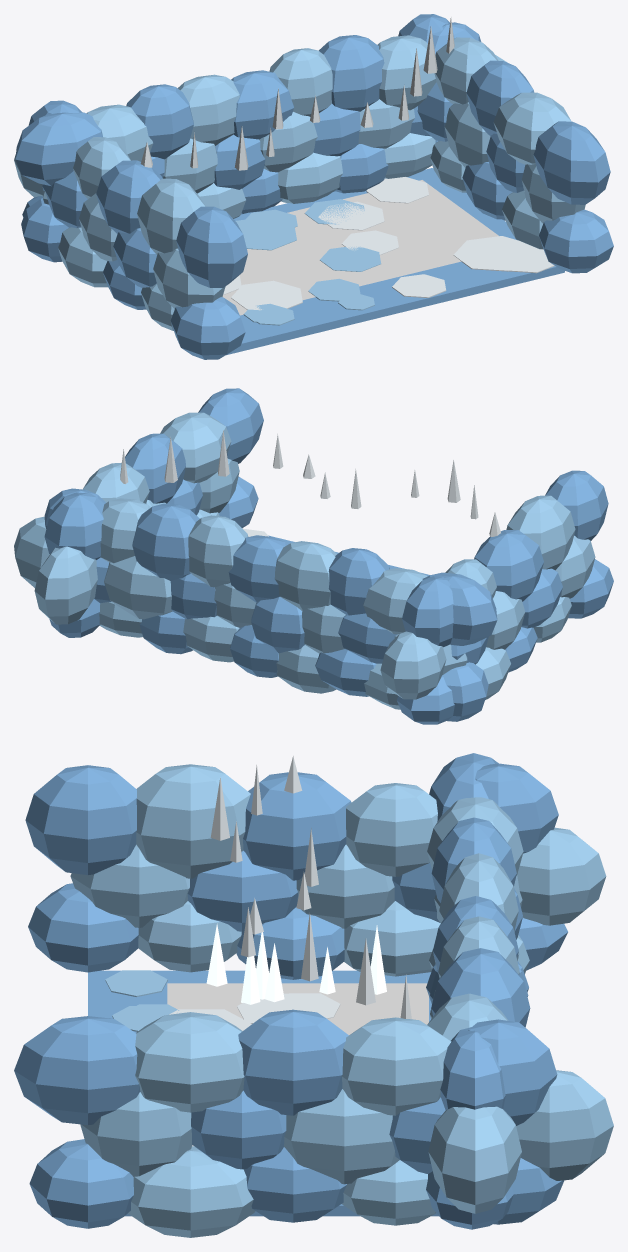
The model's file is ice_cave.glb.
3 views of the same model, one above another, from view 1: azimuth 30°, elevation 25°; view 2: azimuth 150°, elevation 25°; view 3: azimuth 270°, elevation 25° (orthographic). The views are drawn at different scales.
Parts seen in each view (by area): view 1: nav_floor, floor_base, walls2_1_0, walls2_-1_0, wallb2_0, wallb2_6, walls0_1_0, walls0_-1_0, walls2_1_1, wallb2_2, walls2_-1_1, wallb2_3 (+49 smaller); view 2: wallb2_6, walls1_1_4, wallb2_3, walls1_-1_4, walls2_-1_2, wallb2_5, walls2_-1_1, walls2_1_4, wallb1_6, walls2_1_1, walls2_-1_4, wallb2_2 (+37 smaller); view 3: walls2_1_0, walls2_-1_0, walls2_-1_1, walls2_1_1, walls2_1_2, walls2_1_3, walls2_-1_2, walls0_1_1, wallb1_8, walls1_1_2, walls1_1_4, walls2_-1_3 (+41 smaller).
Part boxes in pixels (x1,y1,x2,y2): nav_floor: (222,180,498,315); floor_base: (226,168,564,355); walls2_1_0: (533,121,610,204); walls2_-1_0: (176,206,247,287); wallb2_0: (15,112,102,186); wallb2_6: (318,35,384,111); walls0_1_0: (539,209,613,273); walls0_-1_0: (170,297,245,359); walls2_1_1: (493,92,571,164); wallb2_2: (126,84,193,159); walls2_-1_1: (137,178,205,254); wallb2_3: (177,74,239,145); wallb2_6: (132,503,199,580); walls1_1_4: (34,546,97,624); wallb2_3: (274,541,336,610); walls1_-1_4: (380,631,446,699); walls2_-1_2: (474,530,543,601); wallb2_5: (188,515,248,587); walls2_-1_1: (506,495,575,570); walls2_1_4: (44,492,104,559); wallb1_6: (104,556,172,619); walls2_1_1: (160,412,231,483); walls2_-1_4: (402,576,453,647); wallb2_2: (328,548,389,615); walls2_1_0: (14,1016,140,1124); walls2_-1_0: (25,765,136,874); walls2_-1_1: (136,764,250,878); walls2_1_1: (135,1012,244,1112); walls2_1_2: (238,1009,348,1115); walls2_1_3: (342,1017,451,1115); walls2_-1_2: (243,772,351,880); walls0_1_1: (128,1146,255,1237); wallb1_8: (428,1106,521,1213); walls1_1_2: (284,1089,399,1184); walls1_1_4: (516,1070,613,1180); walls2_-1_3: (346,783,437,876).
Size of the model in its own units: 12.2 by 4.42 by 9.07.
